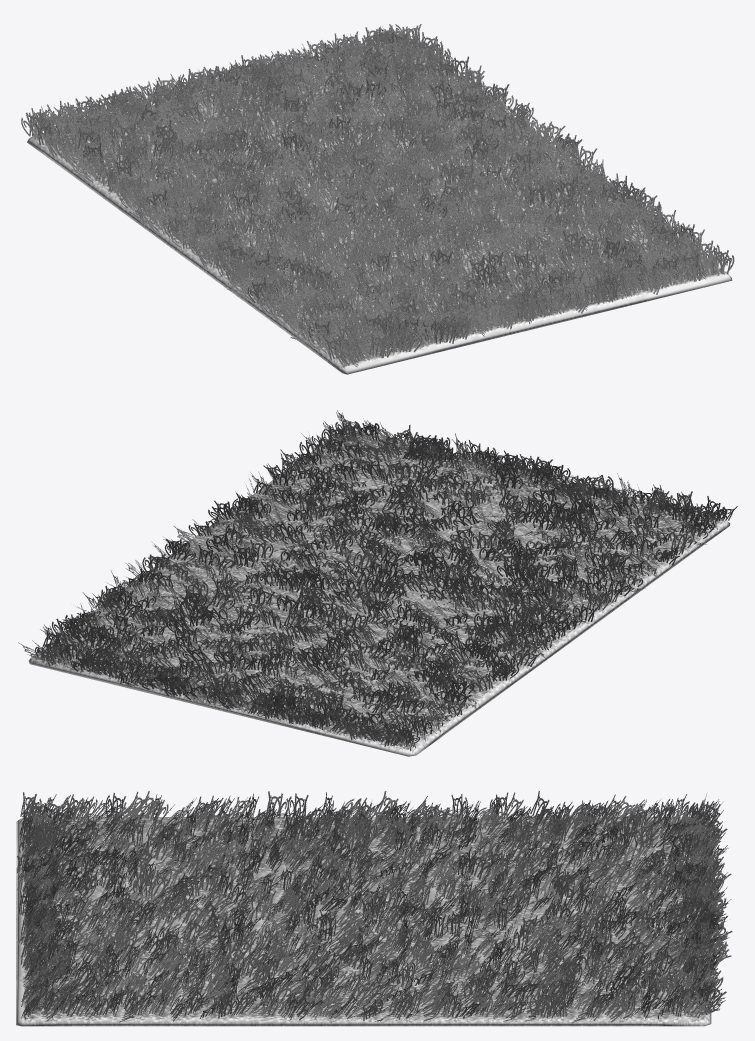
The model's file is ShagRug02.obj.
The picture shows the model from 3 angles, top to bottom: view 1: azimuth 30°, elevation 25°; view 2: azimuth 150°, elevation 25°; view 3: azimuth 270°, elevation 25°; orthographic projection. The views are drawn at different scales.
Visible parts, largest first — view 1: SM_ShagRug02; view 2: SM_ShagRug02; view 3: SM_ShagRug02.
Boxes of the visible parts, box(x1,y1,x2,y2) form: SM_ShagRug02: box(21, 24, 734, 374); SM_ShagRug02: box(18, 410, 737, 756); SM_ShagRug02: box(16, 791, 732, 1026).
Size of the model in its own units: 154 by 11.42 by 210.
2 materials, 2 textured.
